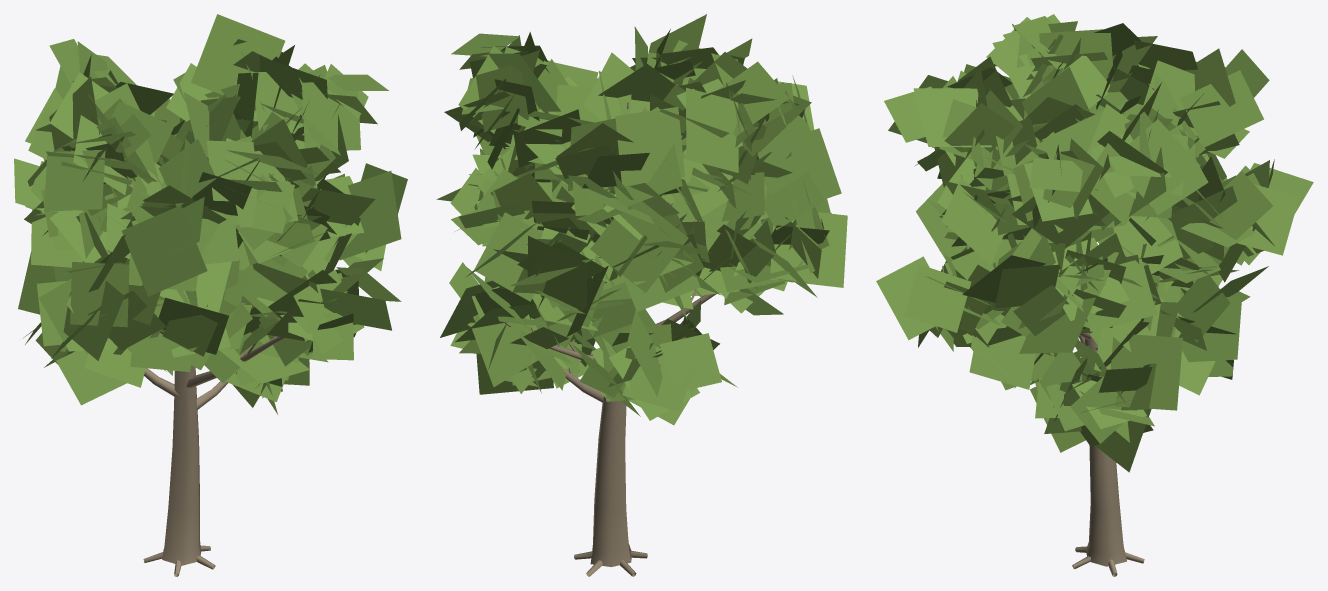
File: oak-0-lod1.glb
3 renders of one model, left to right at view 1: azimuth 30°, elevation 25°; view 2: azimuth 150°, elevation 25°; view 3: azimuth 270°, elevation 25°, orthographic.
Parts seen in each view (by area): view 1: oak-0-lod1-foliage, oak-0-lod1-bark; view 2: oak-0-lod1-foliage, oak-0-lod1-bark; view 3: oak-0-lod1-foliage, oak-0-lod1-bark.
Part boxes in pixels (bbox=[...]): oak-0-lod1-foliage: bbox=[14, 14, 407, 414]; oak-0-lod1-bark: bbox=[143, 174, 284, 576]; oak-0-lod1-foliage: bbox=[436, 14, 847, 425]; oak-0-lod1-bark: bbox=[503, 102, 764, 576]; oak-0-lod1-foliage: bbox=[876, 14, 1313, 472]; oak-0-lod1-bark: bbox=[994, 76, 1214, 576].
Size of the model in its own units: 12.39 by 16.3 by 12.65.
